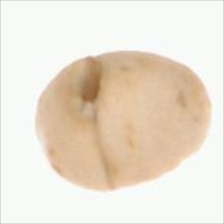L3: (74, 56, 107, 111)
L4: (35, 50, 210, 193)
